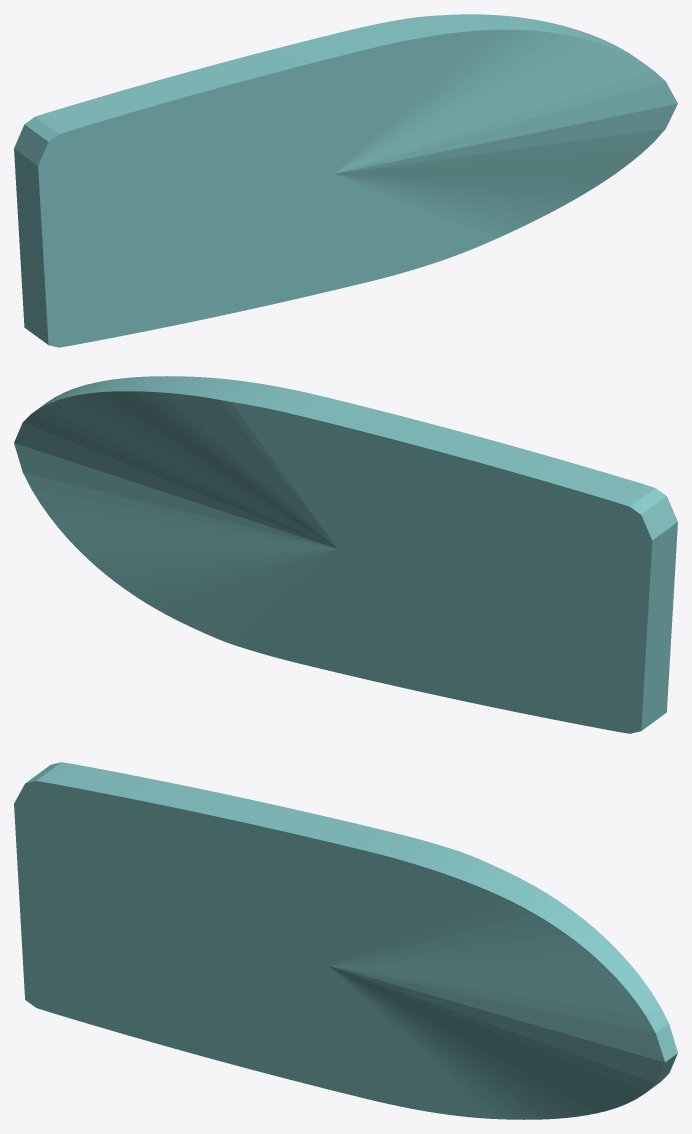
The model's file is efoil_board.obj.
The picture shows the model from 3 angles, top to bottom: view 1: azimuth 30°, elevation 25°; view 2: azimuth 150°, elevation 25°; view 3: azimuth 330°, elevation 25°; orthographic projection. The views are drawn at different scales.
Bounding box in the file's own units: 1.8 × 0.64 × 0.19.
